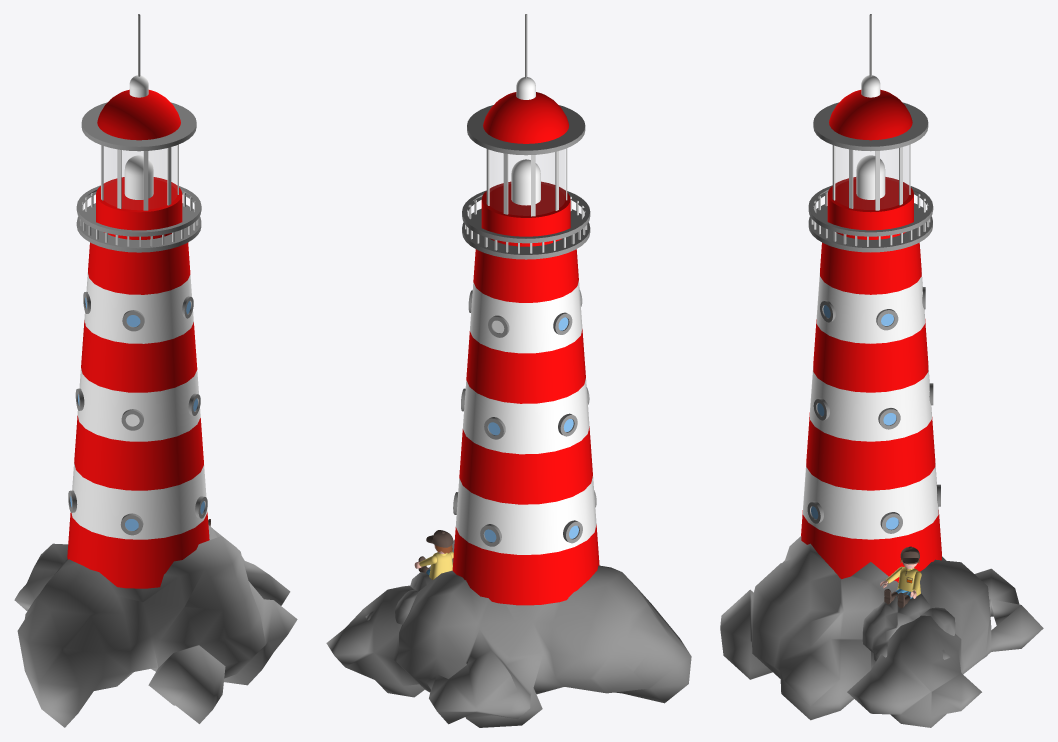
The model's file is Turm_01.dae.
3 views of the same model, side by side, from view 1: azimuth 30°, elevation 25°; view 2: azimuth 150°, elevation 25°; view 3: azimuth 270°, elevation 25° (orthographic). The views are drawn at different scales.
Parts seen in each view (by area): view 1: Leuchtturm; view 2: Leuchtturm; view 3: Leuchtturm.
Boxes of the visible parts, x1,y1,x2,y2 form: Leuchtturm: (14,14,297,727); Leuchtturm: (326,14,691,727); Leuchtturm: (720,14,1043,727).
Bounding box in the file's own units: 340 × 769 × 338.
